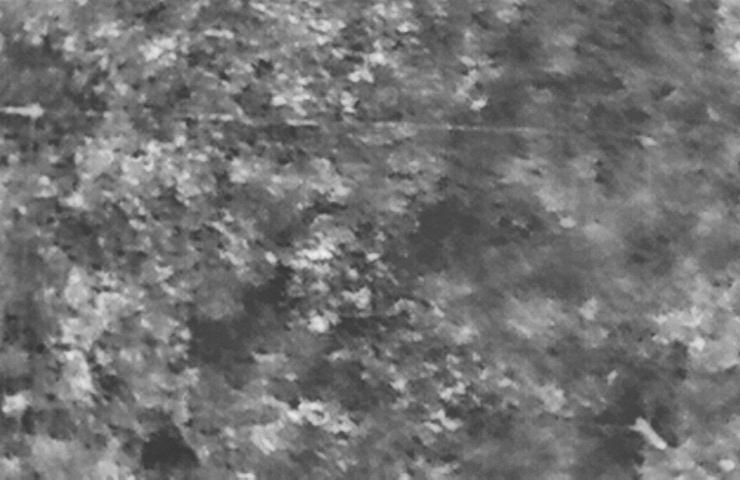landmines: (286, 234, 343, 276)
